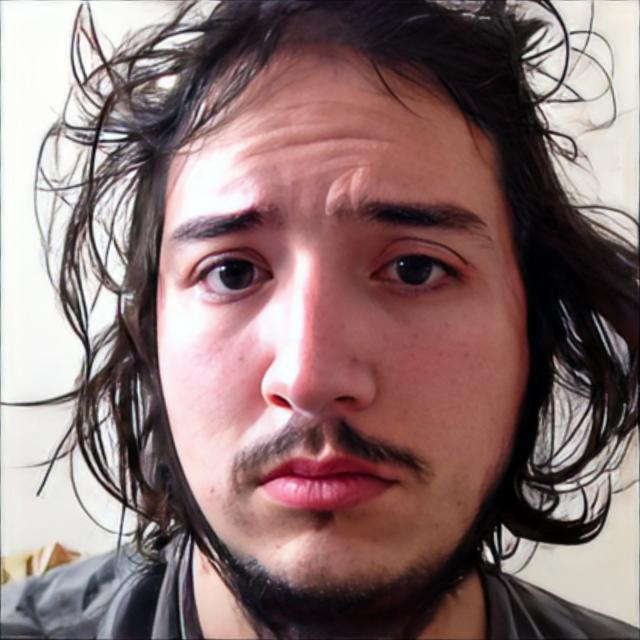sad: (158, 46, 535, 602)
